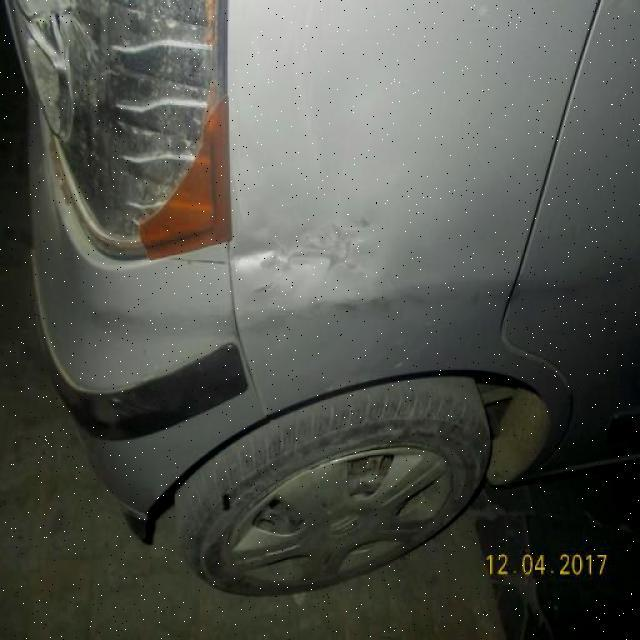car damage: (0, 378, 327, 559), (0, 236, 298, 285)
